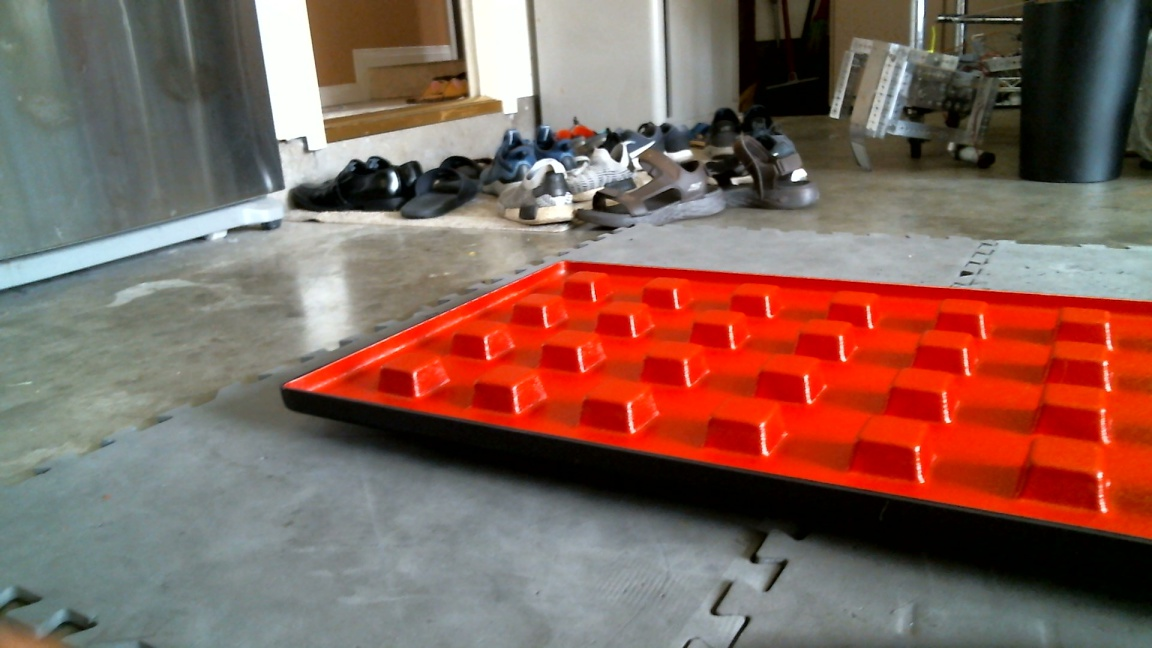red_foundation: (286, 258, 1152, 580)
